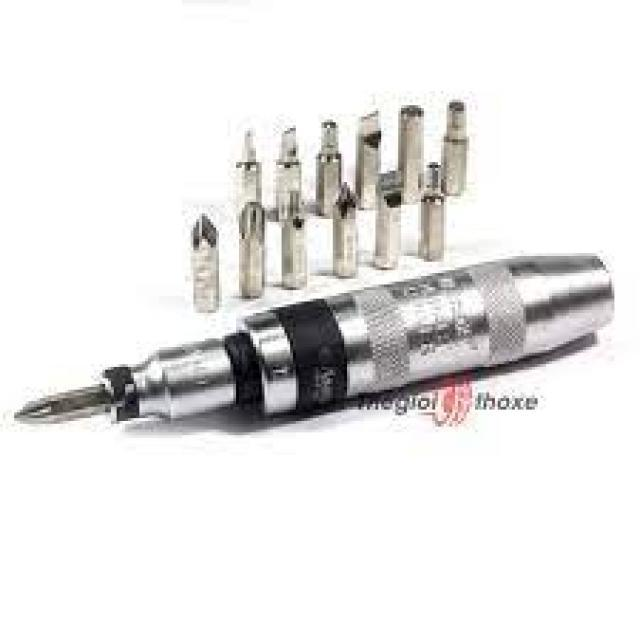screwdriver: (10, 248, 616, 440)
